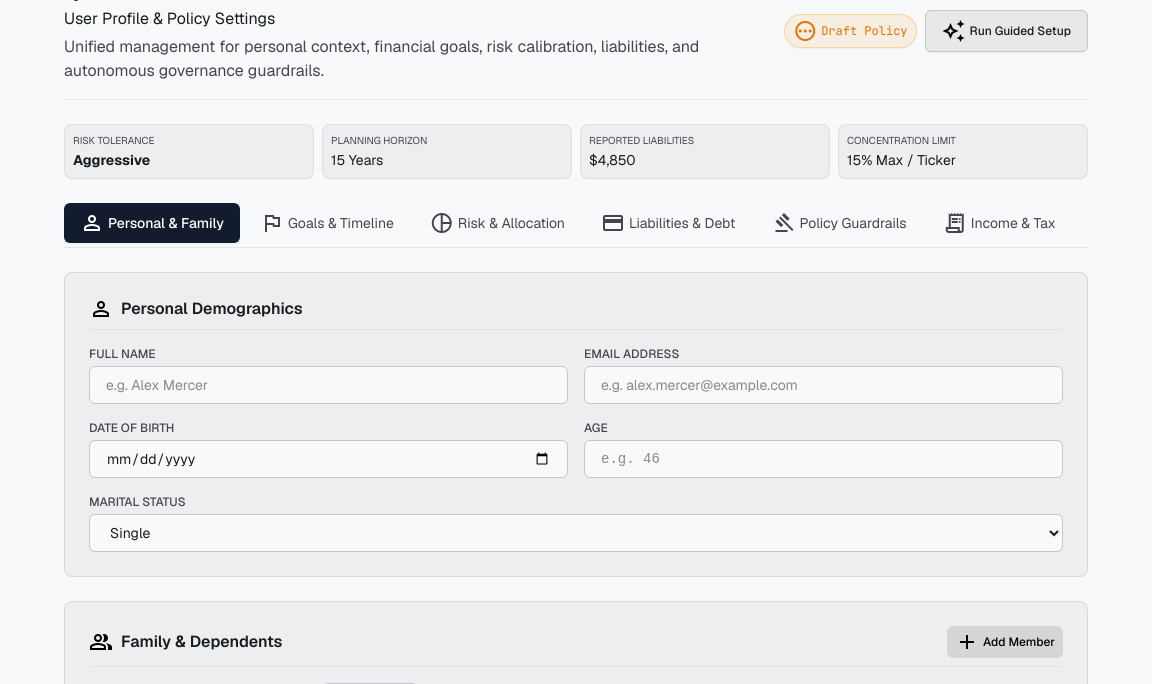
Scenario: Frontend Views › ProfileView handles Income & Tax (W-2) tab with Document AI upload and 1-click sync
The width and height of the screenshot is (1152, 684).
Click the button with test id "tab-income" at (999, 223), box x1=927 y1=203 x2=1072 y2=243
(page scrolled)
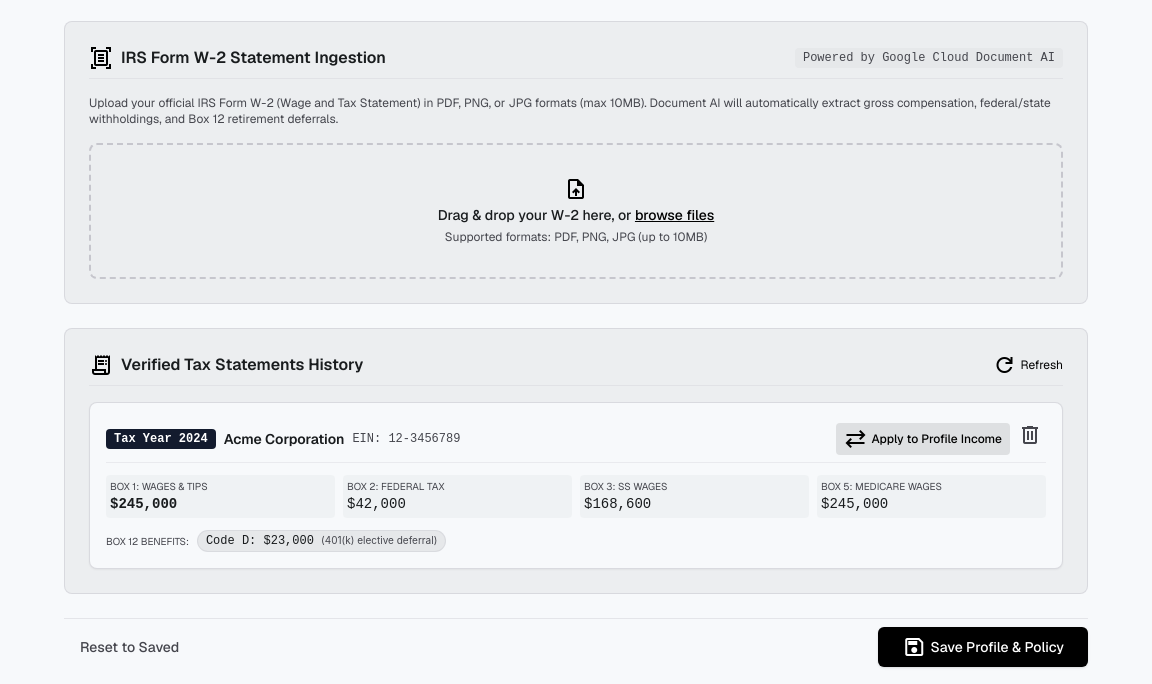
Check: the element with test id "section-income" is shown
Check: the text "Tax Year 2024" is shown, box x1=106 y1=428 x2=216 y2=448
Check: the text "Acme Corporation" is shown, box x1=224 y1=428 x2=344 y2=448
Click the button with test id "btn-apply-w2" at (923, 438), box x1=836 y1=422 x2=1010 y2=454
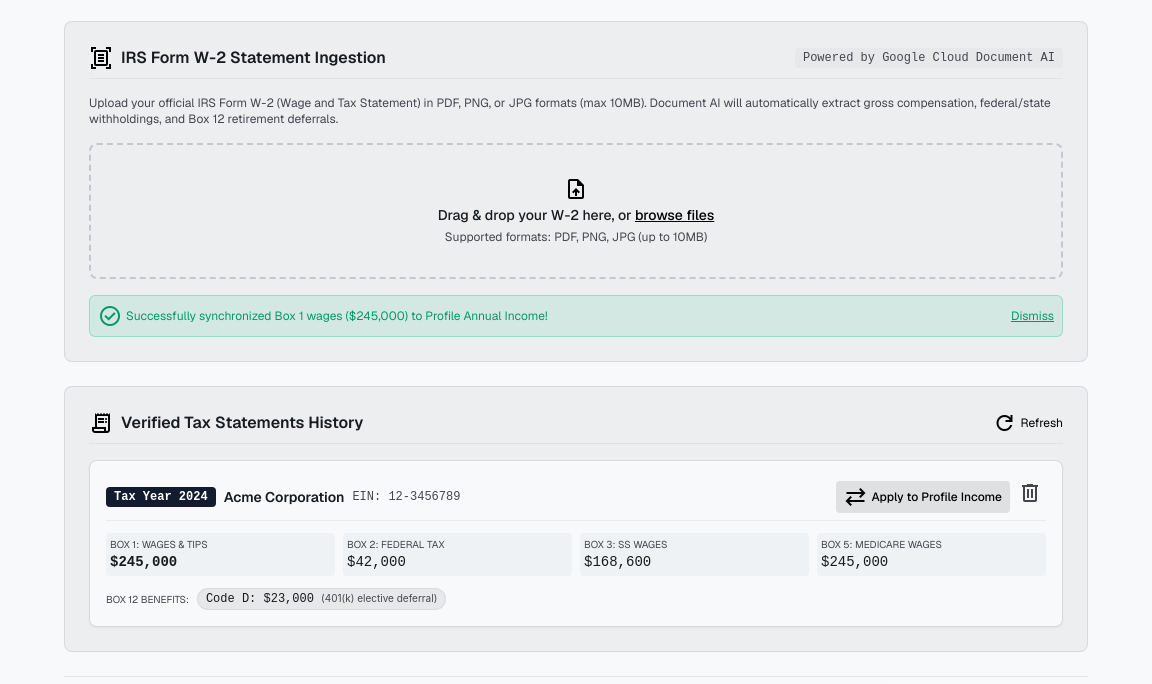
Check: the element with test id "w2-upload-success" shows "Successfully synchronized Box 1 wages", box x1=126 y1=308 x2=548 y2=324
